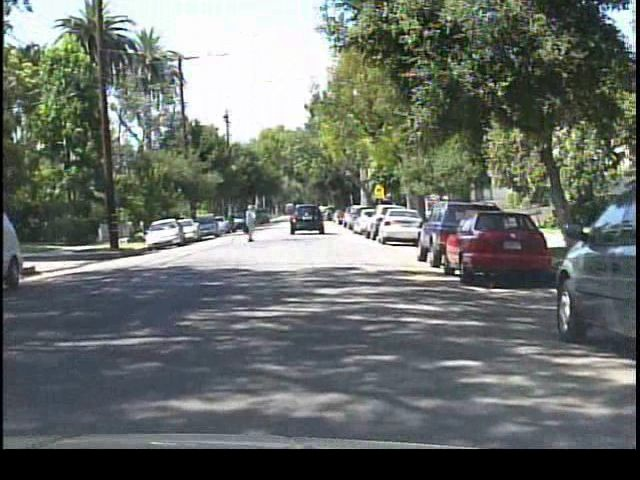person: (239, 195, 263, 240)
